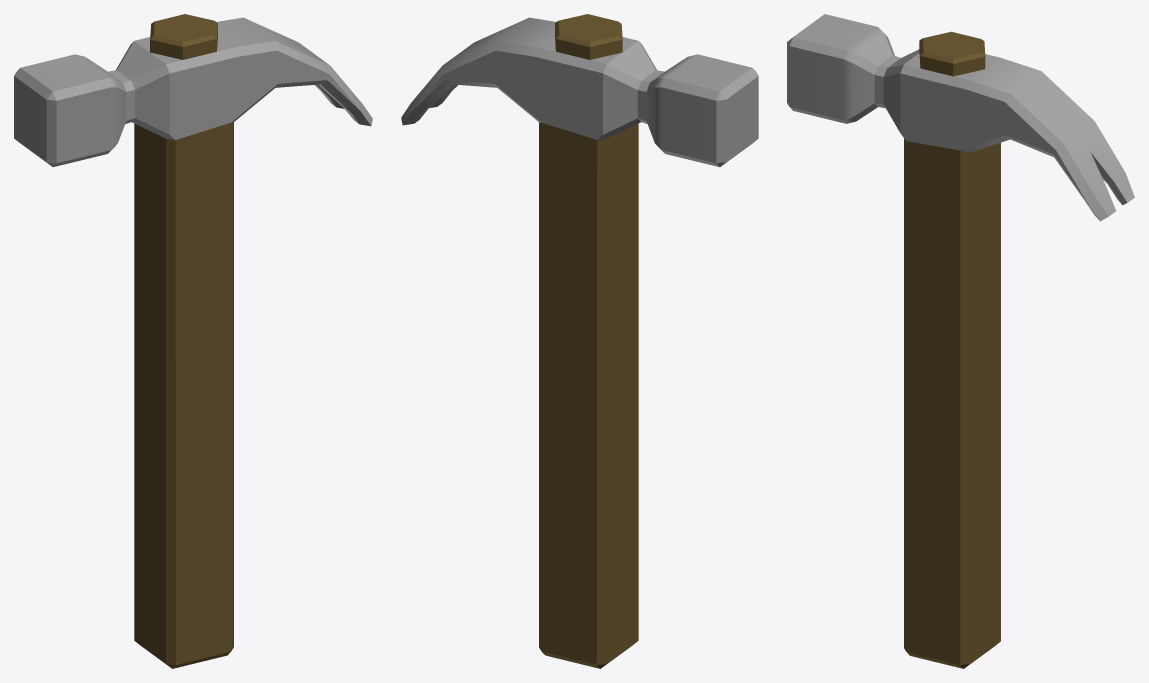
The model's file is Marteau.fbx.
3 views of the same model, side by side, from view 1: azimuth 30°, elevation 25°; view 2: azimuth 150°, elevation 25°; view 3: azimuth 330°, elevation 25° (orthographic). The views are drawn at different scales.
Visible parts, largest first — view 1: Marteau; view 2: Marteau; view 3: Marteau.
Part boxes in pixels (x1,y1,x2,y2): Marteau: (14,14,372,668); Marteau: (401,14,758,668); Marteau: (787,14,1134,668).
Bounding box in the file's own units: 4.84 × 8.77 × 1.02.
